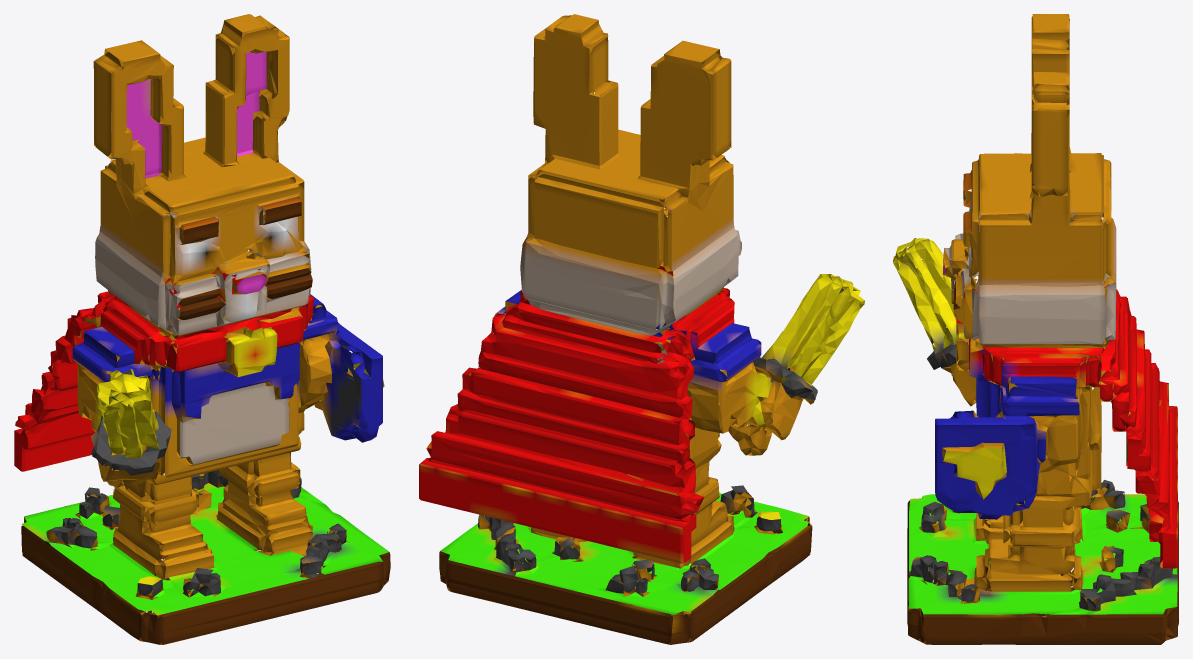
File: Heroe3.fbx
The picture shows the model from 3 angles, left to right: view 1: azimuth 30°, elevation 25°; view 2: azimuth 150°, elevation 25°; view 3: azimuth 270°, elevation 25°; orthographic projection.
Visible parts, largest first — view 1: Personaje; view 2: Personaje; view 3: Personaje.
Part boxes in pixels (left/top/right/bottom): Personaje: left=14, top=14, right=390, bottom=644; Personaje: left=419, top=14, right=864, bottom=644; Personaje: left=893, top=14, right=1178, bottom=644.
Bounding box in the file's own units: 119 × 196 × 95.85.
Materials: 1 (1 with a texture image).
